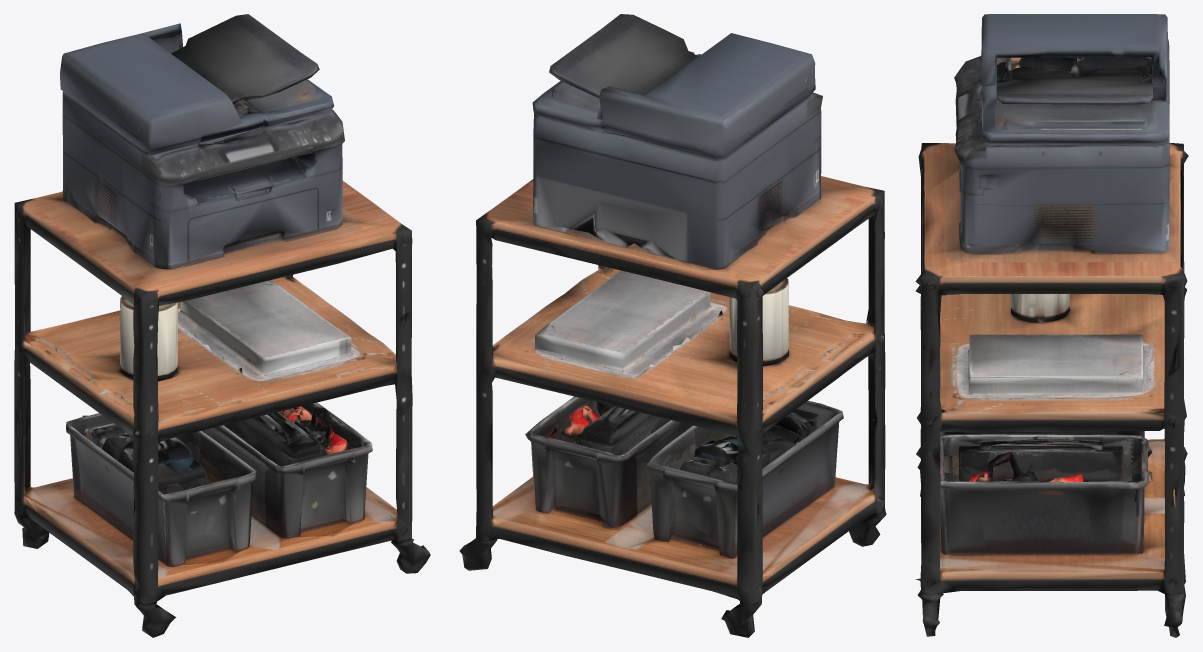
File: yazici.fbx
3 renders of one model, left to right at view 1: azimuth 30°, elevation 25°; view 2: azimuth 150°, elevation 25°; view 3: azimuth 270°, elevation 25°, orthographic. The views are drawn at different scales.
Visible parts, largest first — view 1: Mesh_0; view 2: Mesh_0; view 3: Mesh_0.
Boxes of the visible parts, x1,y1,x2,y2 form: Mesh_0: (14,14,430,637); Mesh_0: (459,14,886,637); Mesh_0: (915,14,1188,637).
Size of the model in its own units: 119 by 191 by 93.39.
1 material, 1 textured.
